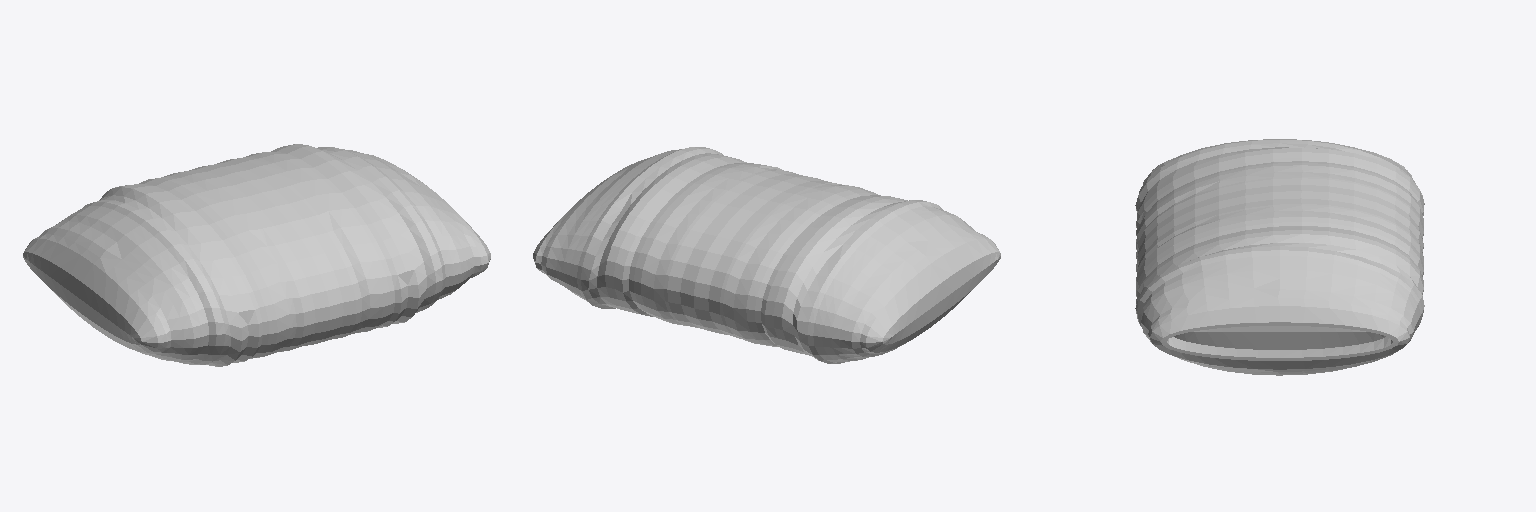
The model's file is Saco.obj.
3 views of the same model, side by side, from view 1: azimuth 30°, elevation 25°; view 2: azimuth 150°, elevation 25°; view 3: azimuth 270°, elevation 25° (orthographic).
Visible parts, largest first — view 1: Cylinder; view 2: Cylinder; view 3: Cylinder.
Boxes of the visible parts, x1,y1,x2,y2 form: Cylinder: [23, 144, 490, 366]; Cylinder: [533, 147, 1000, 363]; Cylinder: [1135, 139, 1424, 375].
Bounding box in the file's own units: 2.81 × 1.01 × 2.